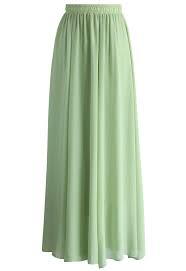C_skirt: (39, 3, 152, 267)
